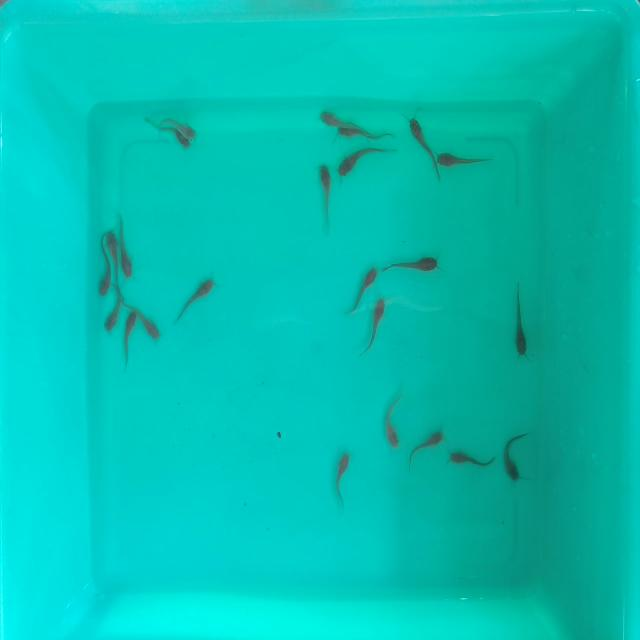lele: (174, 277, 220, 326), (143, 114, 194, 152), (359, 296, 389, 356), (346, 267, 377, 316), (338, 148, 395, 174), (408, 116, 438, 164), (512, 283, 530, 357), (119, 213, 139, 278), (137, 289, 162, 340), (157, 112, 199, 141), (104, 281, 125, 334), (502, 430, 523, 482), (337, 122, 394, 141), (409, 430, 444, 460), (450, 450, 498, 470), (382, 257, 441, 273), (386, 393, 403, 448), (334, 449, 350, 505), (123, 311, 138, 369), (441, 152, 496, 166), (320, 165, 332, 222), (98, 252, 112, 300), (106, 218, 120, 264), (320, 108, 352, 126)
